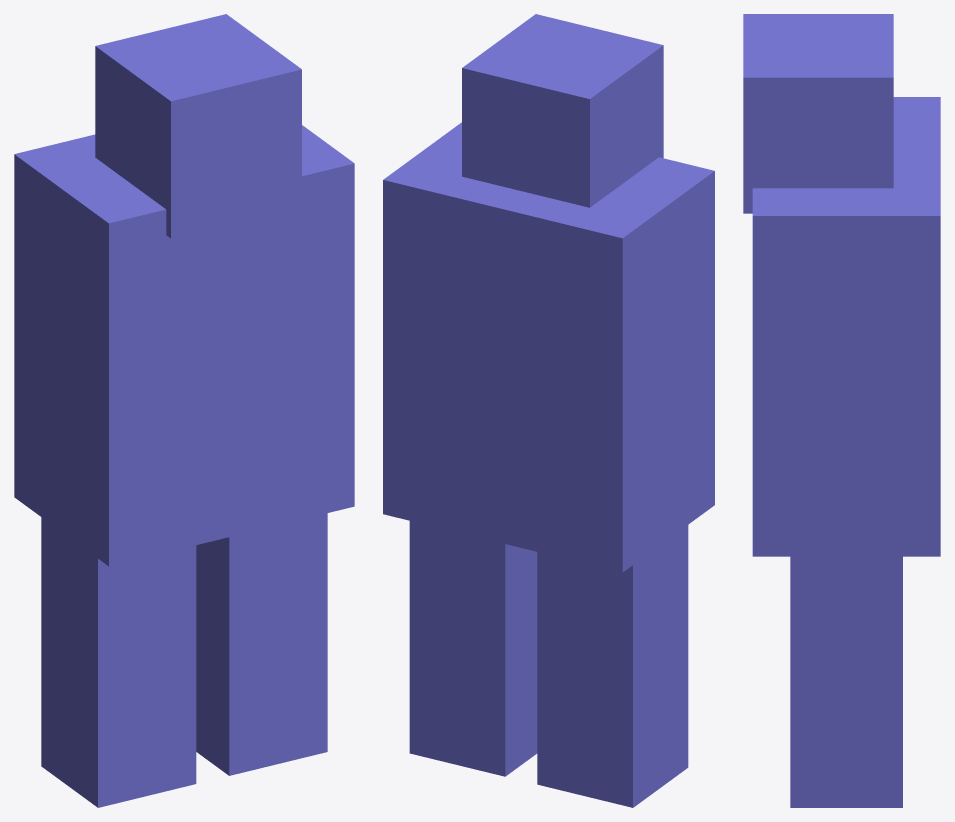
The model's file is medium_mech.gltf.
The picture shows the model from 3 angles, left to right: view 1: azimuth 30°, elevation 25°; view 2: azimuth 150°, elevation 25°; view 3: azimuth 270°, elevation 25°; orthographic projection. The views are drawn at different scales.
Parts seen in each view (by area): view 1: Medium Mech; view 2: Medium Mech; view 3: Medium Mech.
Part boxes in pixels (box(x1,y1,x2,y2)): Medium Mech: box(14, 14, 354, 807); Medium Mech: box(383, 14, 714, 807); Medium Mech: box(743, 14, 940, 807).
Bounding box in the file's own units: 3 × 8.3 × 2.1.
